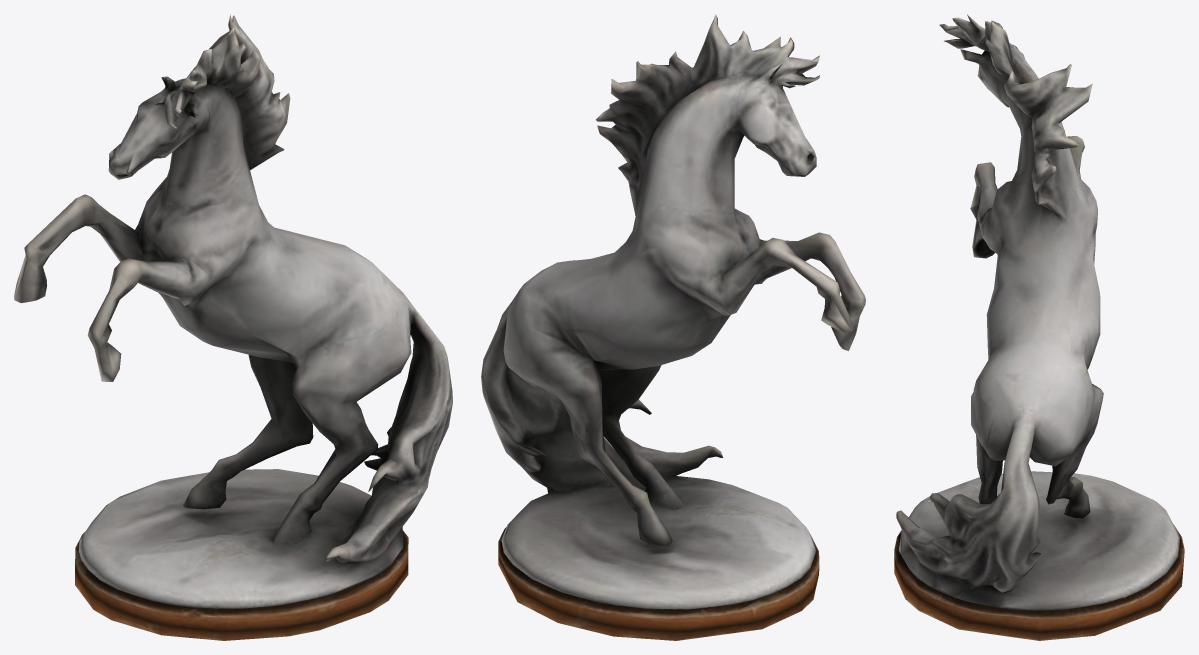
File: horse_statue_01.glb
3 views of the same model, side by side, from view 1: azimuth 30°, elevation 25°; view 2: azimuth 150°, elevation 25°; view 3: azimuth 270°, elevation 25° (orthographic). The views are drawn at different scales.
Visible parts, largest first — view 1: horse_statue_01; view 2: horse_statue_01; view 3: horse_statue_01.
Part boxes in pixels (x1=…): horse_statue_01: x1=14, y1=14, x2=452, y2=640; horse_statue_01: x1=481, y1=14, x2=865, y2=640; horse_statue_01: x1=894, y1=14, x2=1184, y2=640.
Size of the model in its own units: 0.1635 by 0.22 by 0.1078.
1 material, 1 textured.
